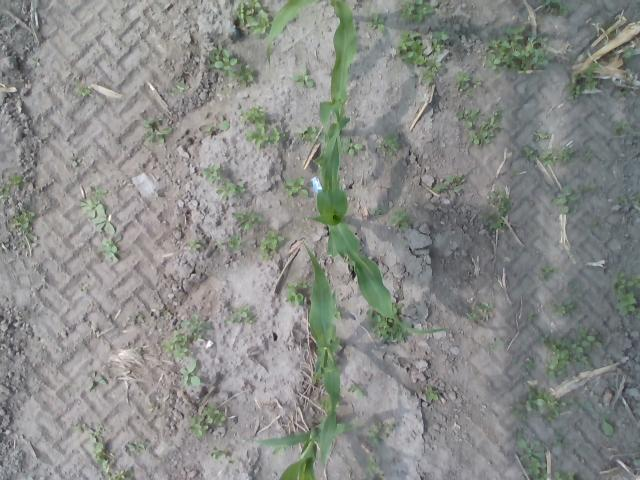Maize: (304, 114, 450, 334), (308, 0, 359, 191), (299, 242, 341, 469), (244, 421, 362, 480), (264, 1, 336, 68)
Weeds: (484, 23, 554, 75), (538, 328, 602, 379), (508, 384, 560, 424), (366, 304, 408, 343), (80, 186, 114, 234), (516, 435, 551, 480), (610, 271, 640, 319), (235, 0, 272, 36), (394, 29, 428, 66), (566, 62, 599, 99), (188, 404, 226, 436), (86, 426, 112, 472), (584, 400, 614, 436), (488, 189, 513, 231), (162, 328, 193, 361), (208, 44, 238, 78), (180, 313, 213, 341), (142, 115, 172, 144), (245, 126, 285, 147), (454, 70, 484, 97), (552, 184, 579, 214), (13, 207, 36, 241), (260, 230, 284, 260), (240, 104, 270, 128), (232, 208, 262, 230), (430, 174, 466, 192), (224, 306, 256, 326), (479, 108, 504, 133), (286, 281, 310, 307), (94, 236, 118, 262), (367, 422, 394, 445), (216, 181, 247, 201), (179, 360, 201, 388), (466, 302, 494, 323), (422, 57, 442, 84), (430, 28, 450, 55), (456, 106, 480, 128), (379, 132, 401, 156), (284, 178, 310, 198), (548, 300, 576, 318), (364, 455, 384, 480), (294, 125, 321, 142), (389, 208, 410, 229), (292, 66, 314, 86), (236, 64, 255, 87), (340, 138, 364, 156), (85, 372, 107, 391), (542, 0, 568, 16), (468, 131, 494, 147), (200, 164, 223, 182), (562, 394, 582, 414), (128, 439, 150, 456), (367, 12, 385, 32), (105, 468, 134, 480), (610, 119, 630, 136), (170, 78, 190, 94), (540, 149, 558, 166), (198, 122, 230, 131), (74, 80, 92, 96), (424, 386, 440, 404), (540, 265, 556, 281), (0, 183, 11, 205), (552, 469, 574, 480), (622, 46, 637, 61), (522, 146, 538, 160), (317, 396, 332, 410), (188, 238, 202, 252), (9, 173, 24, 186), (558, 146, 570, 162), (210, 446, 223, 460), (229, 236, 242, 250), (580, 147, 592, 162), (348, 384, 362, 396), (490, 338, 504, 350), (580, 182, 596, 192), (552, 432, 563, 446), (533, 130, 548, 140), (272, 445, 286, 455), (372, 204, 384, 215), (525, 357, 535, 370), (72, 424, 84, 434), (478, 212, 490, 222), (30, 58, 41, 68), (528, 311, 538, 322), (136, 314, 146, 324), (70, 156, 78, 168), (333, 310, 342, 320), (634, 191, 640, 204), (616, 89, 627, 96), (214, 241, 223, 248), (618, 196, 628, 201), (511, 172, 519, 176)
